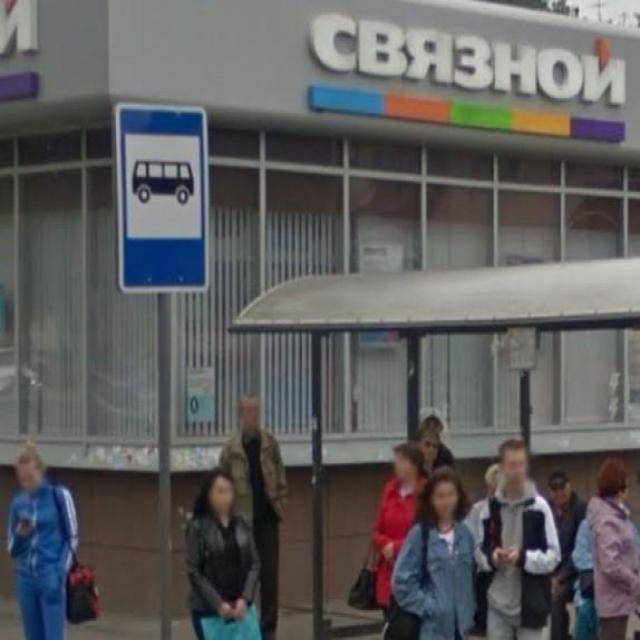traffic_sign: (112, 98, 214, 296)
